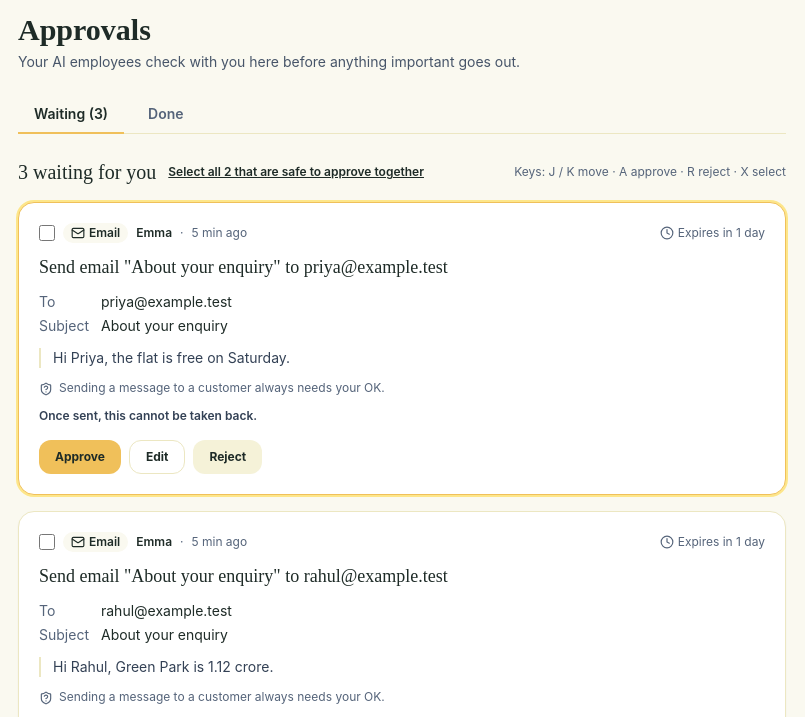
Test: Approvals page › lets a person fix a word before it goes out: edit, then approve sends the edited text
Expected: the heading "Send email \"About your enquiry\" to priya@example.test" is shown, [39,257,448,277]
Click the button "Edit": (157, 457) [129,440,186,474]
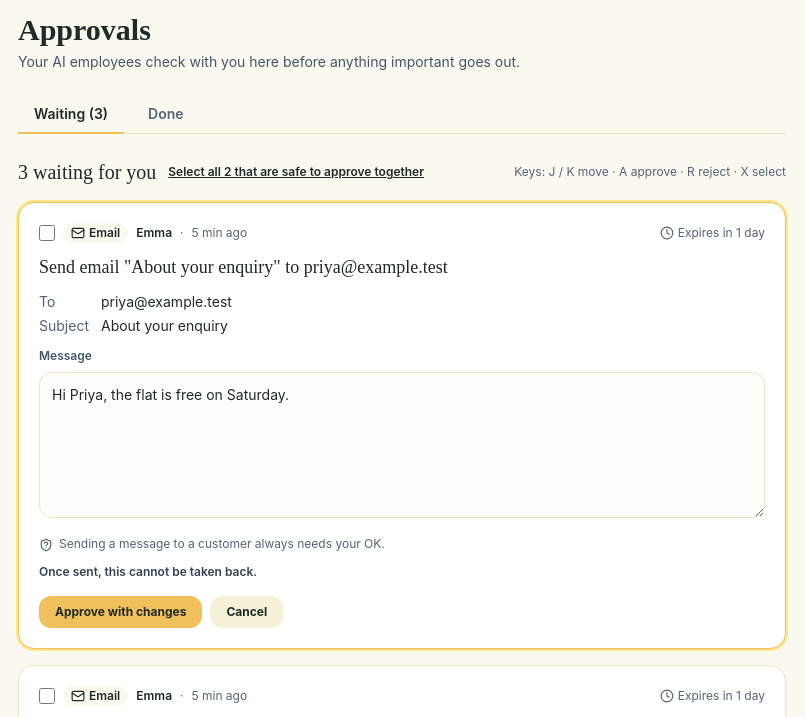
Replace the text in the text box labelled "Message" with "Hi Priya, Saturday at 11am works.": (402, 445) [39,372,765,518]
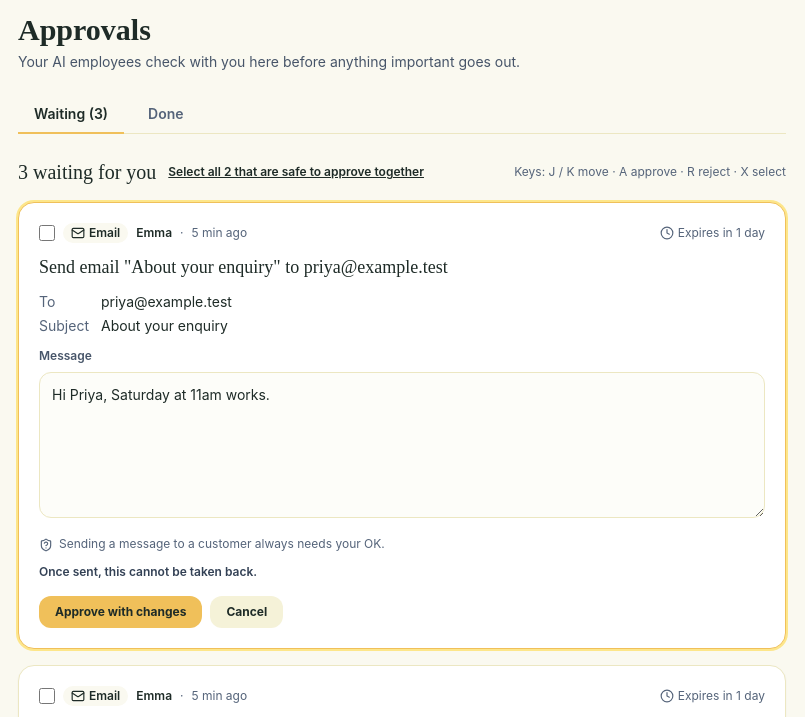
Click the button "Approve with changes": (121, 612) [39,596,202,628]
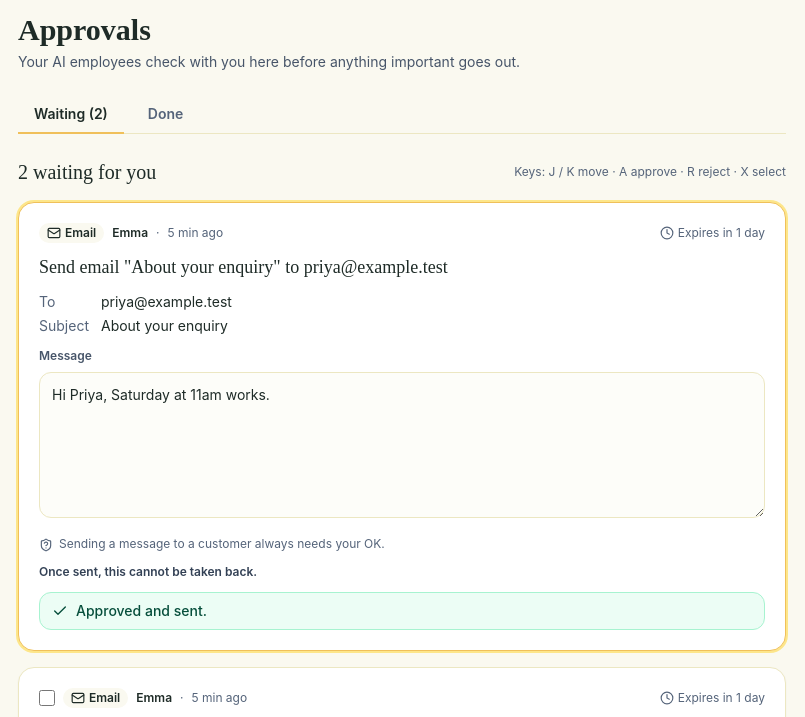
Expected: the text "Approved and sent." is shown, [76,601,207,621]
